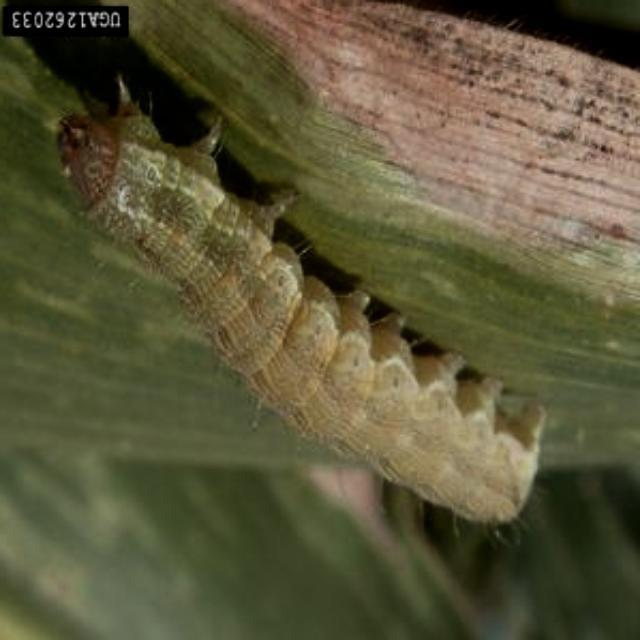Cotton bollworm: (32, 46, 576, 568)
